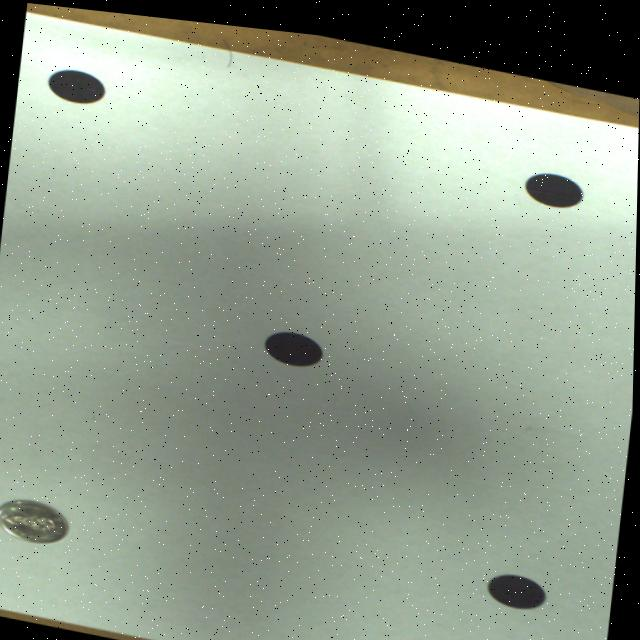space: (265, 323, 323, 358), (489, 561, 547, 595), (525, 159, 582, 193), (48, 67, 106, 100)
tail1bath: (0, 498, 70, 541)
